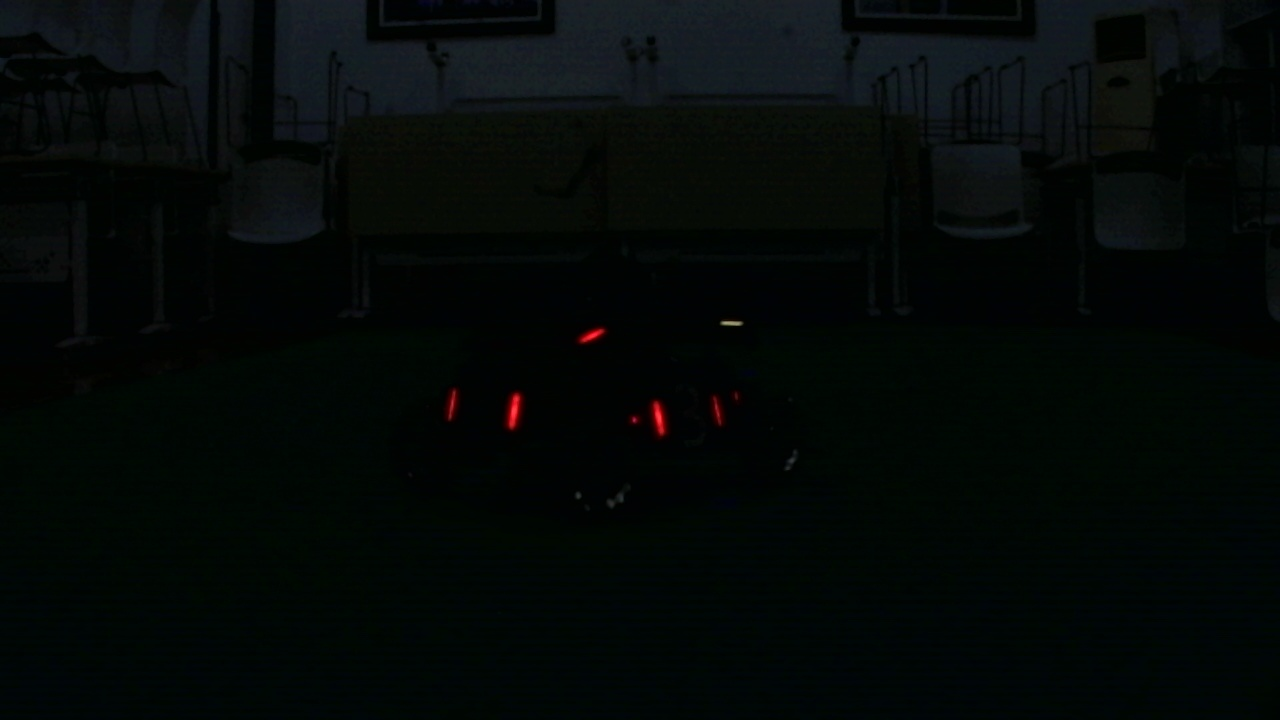lamp: (648, 403, 668, 436), (508, 390, 522, 431), (445, 394, 461, 420)
pair1: (445, 385, 523, 428)
